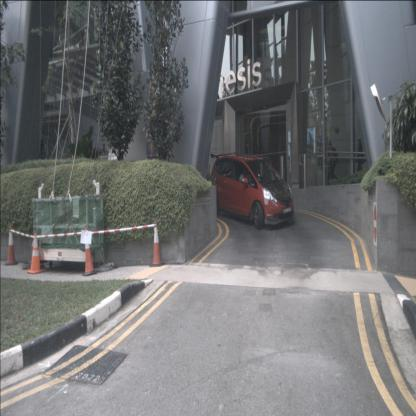cone: (26, 232, 46, 274), (82, 227, 98, 277), (149, 219, 165, 267), (4, 223, 19, 266)
